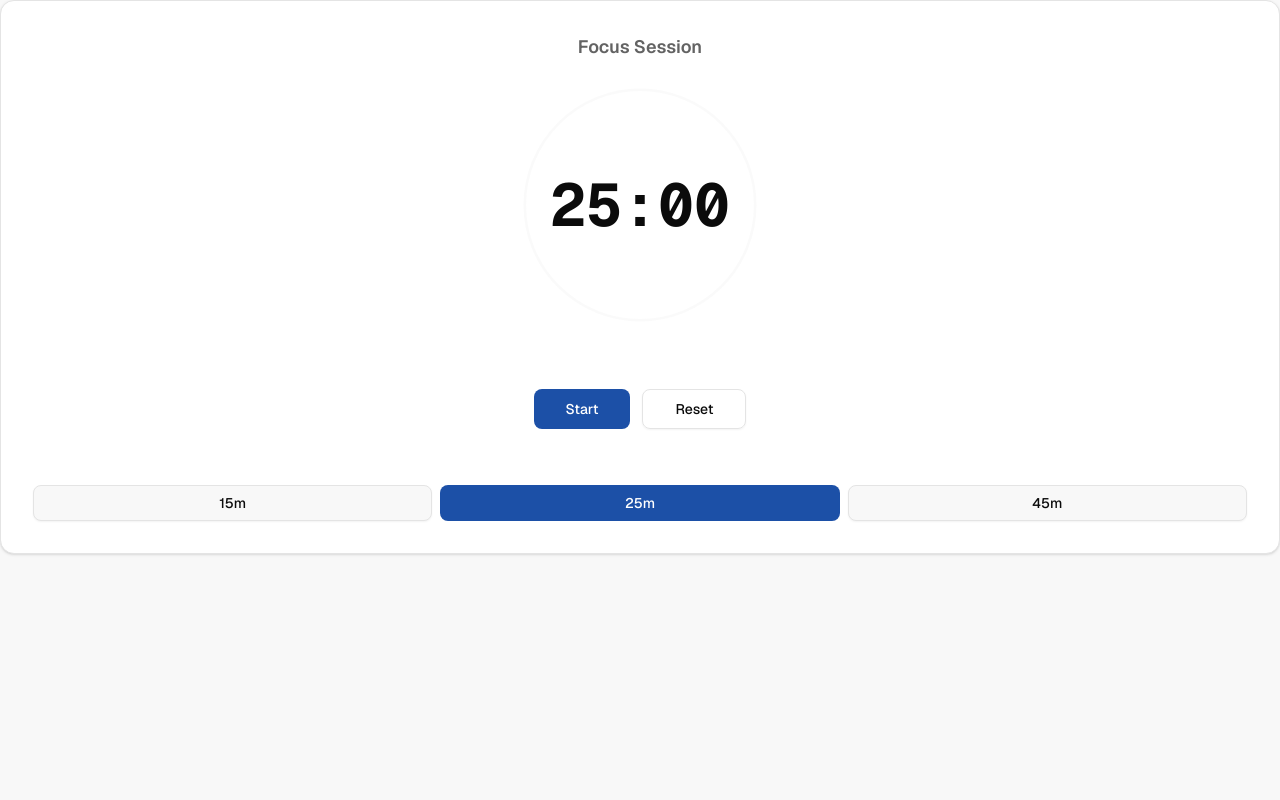
Test: FocusTimer › starts the timer when Start button is clicked
The width and height of the screenshot is (1280, 800).
Click the button "Start": click(582, 409) [534,389,630,429]
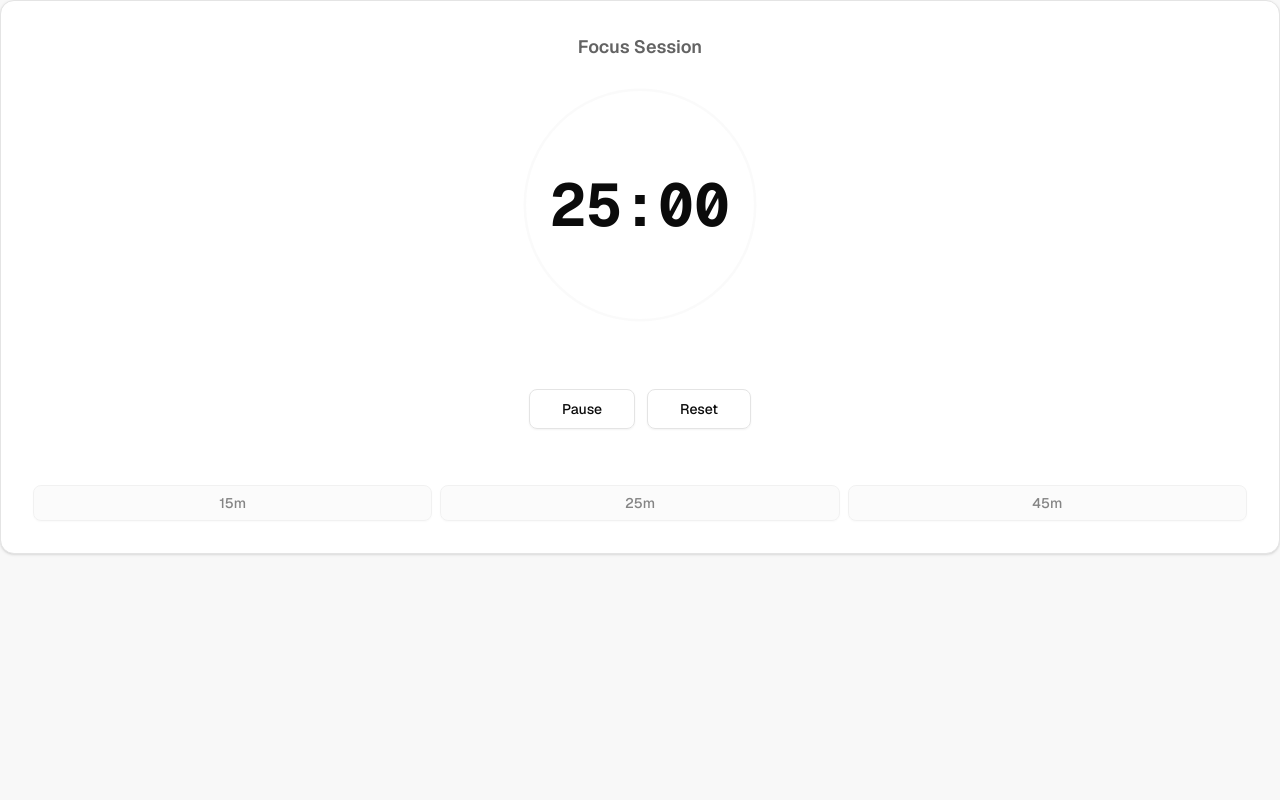
Expected: the button "Pause" is shown, [529,389,635,429]
